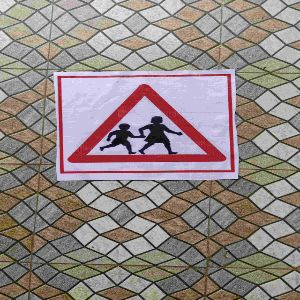schools: (59, 81, 232, 171)
